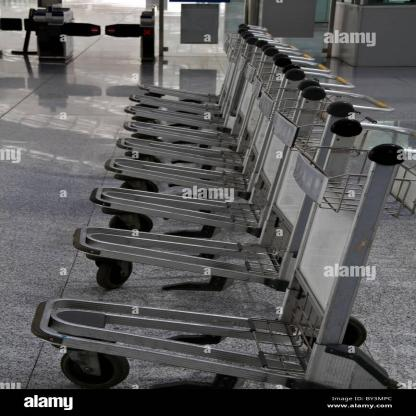airport-trolley: (30, 122, 416, 389), (70, 87, 400, 296), (86, 70, 358, 234), (104, 58, 327, 196), (116, 47, 315, 169), (124, 41, 301, 148), (127, 33, 279, 131), (129, 30, 277, 114), (140, 24, 270, 107)
